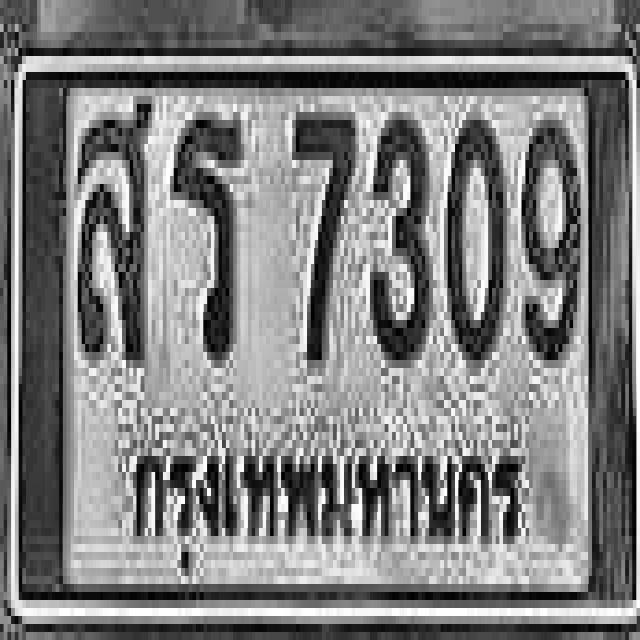license-plate: (7, 48, 640, 616)
